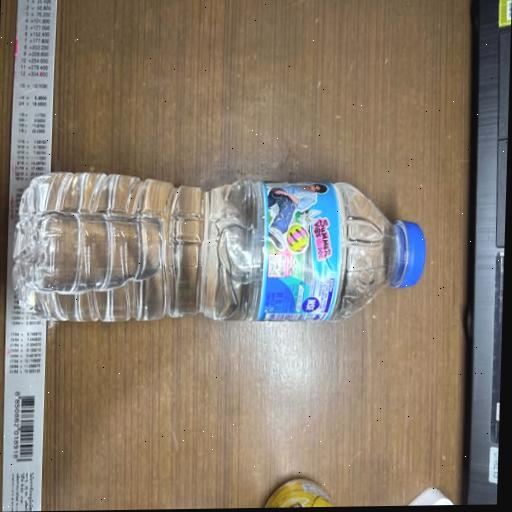bottle: (0, 140, 448, 358)
